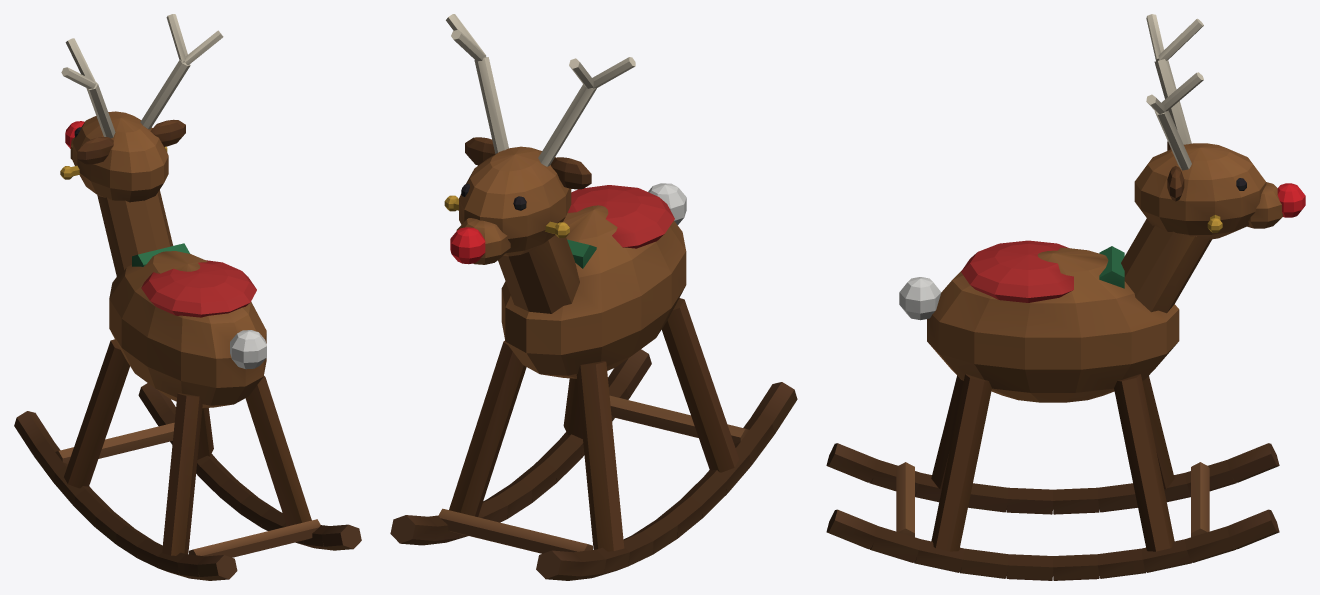
The model's file is xmas_rocking_reindeer.glb.
The picture shows the model from 3 angles, left to right: view 1: azimuth 30°, elevation 25°; view 2: azimuth 150°, elevation 25°; view 3: azimuth 270°, elevation 25°; orthographic projection. The views are drawn at different scales.
Parts seen in each view (by area): view 1: xmas_rocking_reindeer; view 2: xmas_rocking_reindeer; view 3: xmas_rocking_reindeer.
Part boxes in pixels (x1,y1,x2,y2): xmas_rocking_reindeer: (14, 14, 361, 580); xmas_rocking_reindeer: (390, 14, 797, 580); xmas_rocking_reindeer: (826, 14, 1305, 580).
Size of the model in its own units: 0.4126 by 1.13 by 0.9757.
